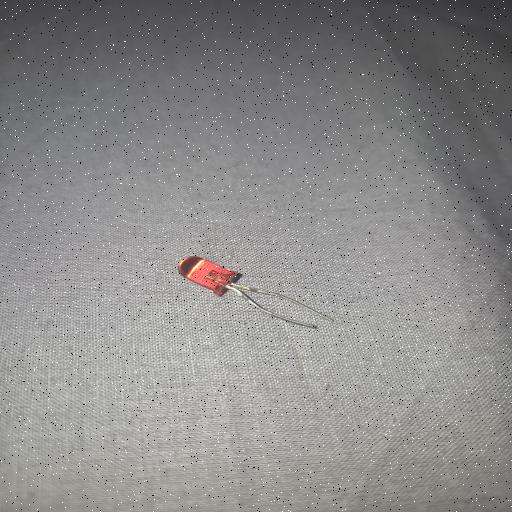led-diode: (177, 256, 244, 296)
